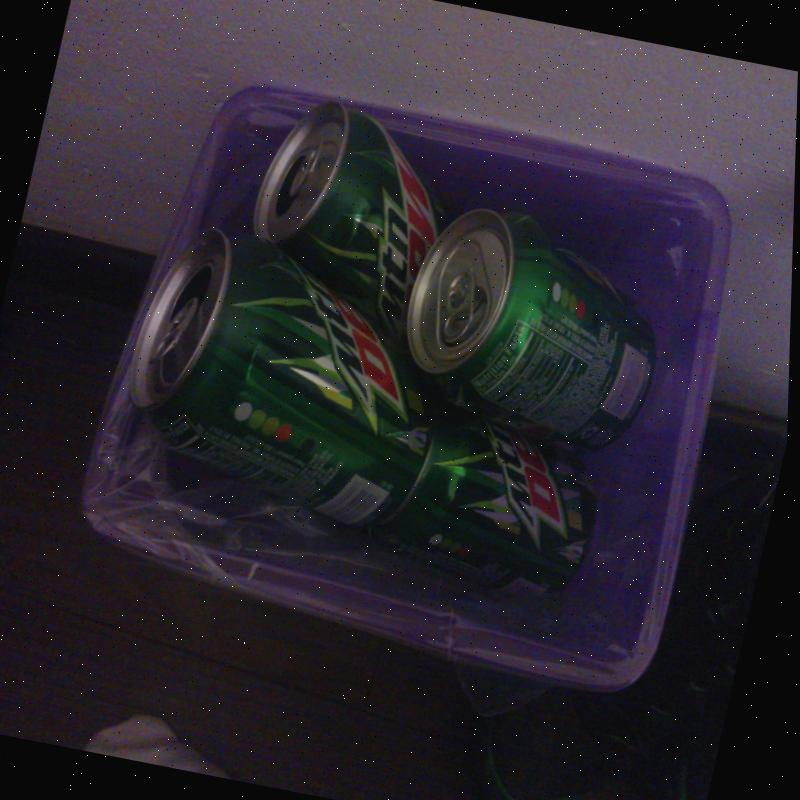aluminum: (132, 227, 436, 526), (407, 208, 658, 450), (254, 99, 446, 364), (392, 405, 598, 585)
